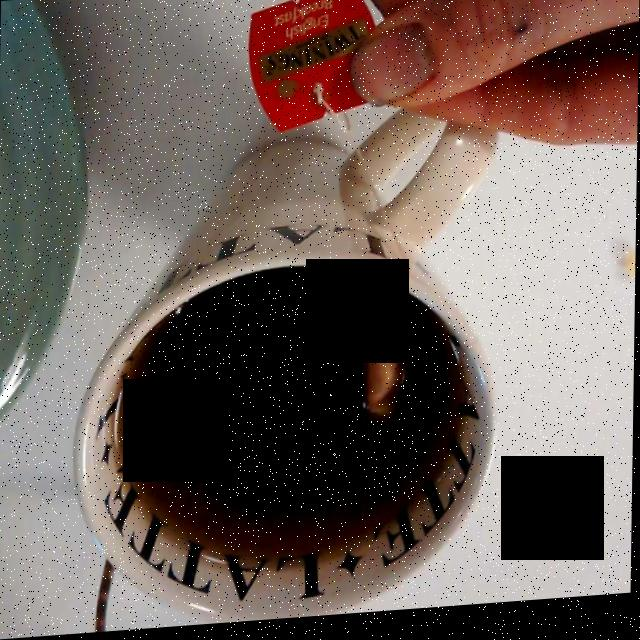tea-black: (117, 282, 473, 561)
